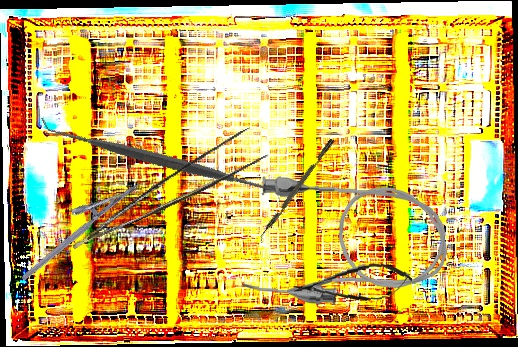Cannula: (240, 174, 452, 312)
Chopper: (255, 138, 340, 245)
Micro Scissor: (292, 259, 414, 309)
Needle Holder: (8, 168, 140, 282)
Spatula Surgical: (41, 40, 281, 279)
Tissue Forceps: (57, 123, 275, 250)
